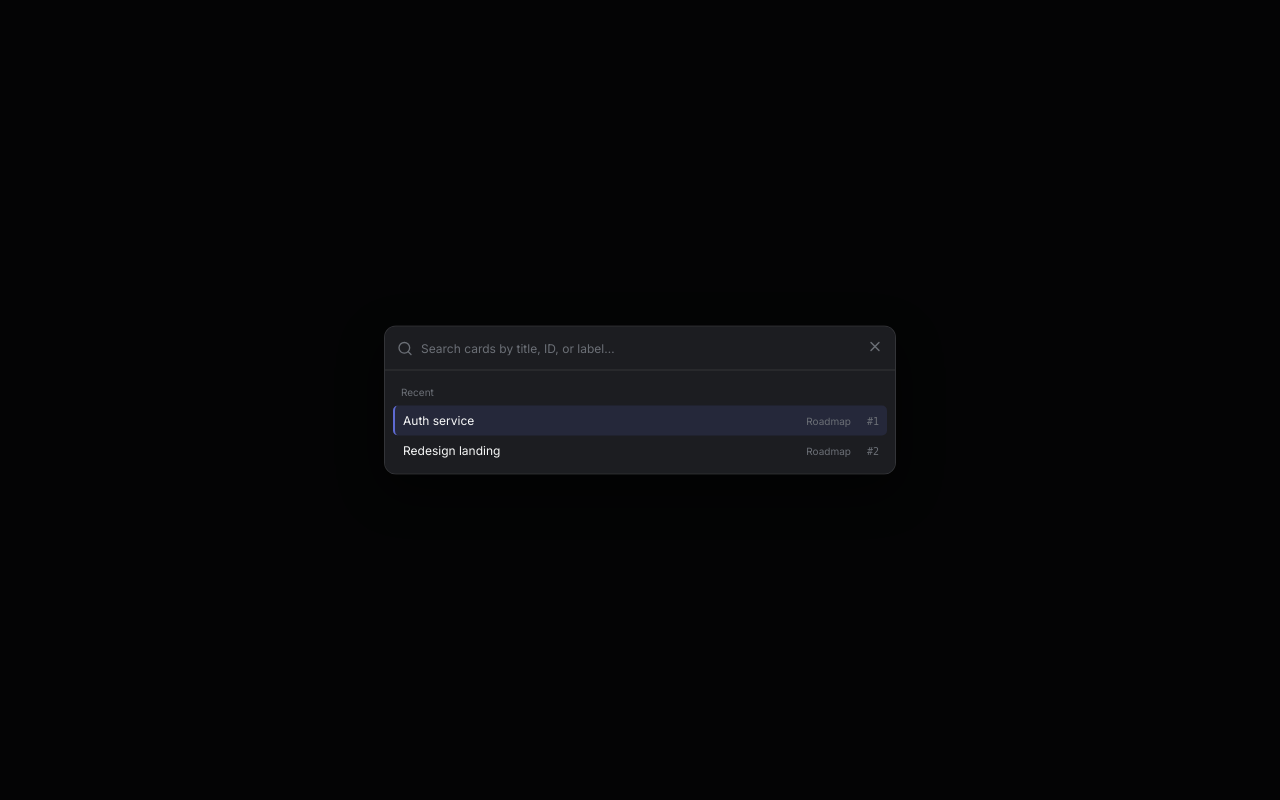
Test case: SearchDialog › shows an empty state when nothing matches
Type "zzzznope" into the dropdown with placeholder "Search cards by title, ID, or label…" at (652, 348), box x1=421 y1=328 x2=883 y2=368
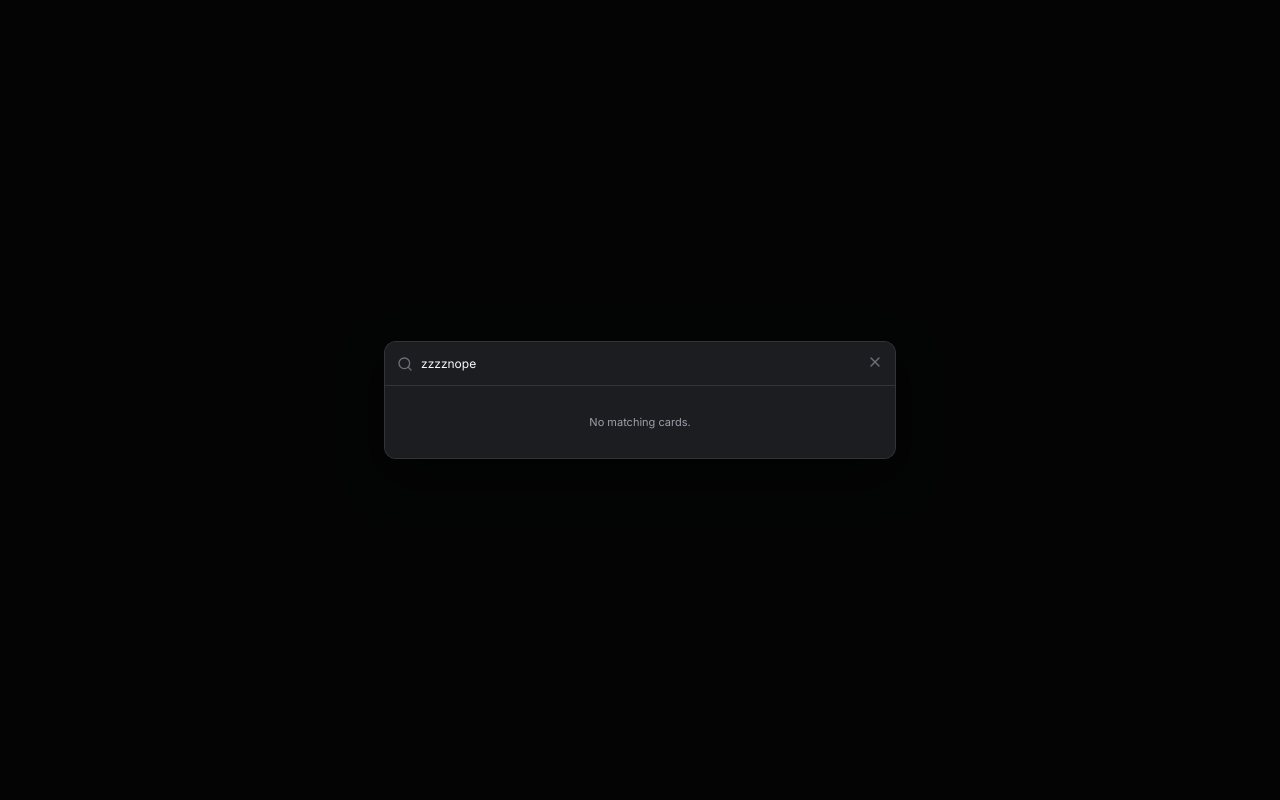
Expected: the text "No matching cards." is shown, x1=589 y1=415 x2=691 y2=429
